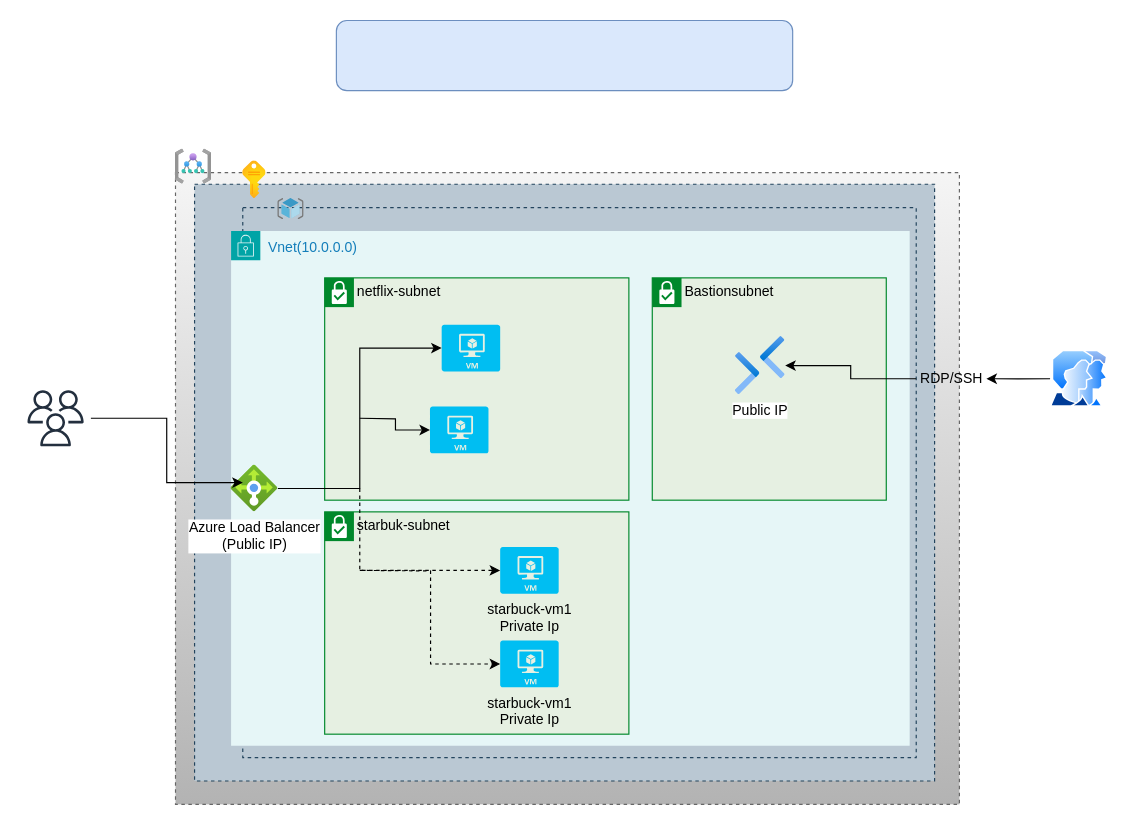
Image size: 1129x825. Some labels were removed from this diagram. The centre of each missing label's shape, as x and y in pixels:
Azure Load Balancer: pixel 564 55
netflix-vm1 Private Ip: pixel 470 347
netflix-vm2 Private Ip: pixel 458 429
Users: pixel 55 417
